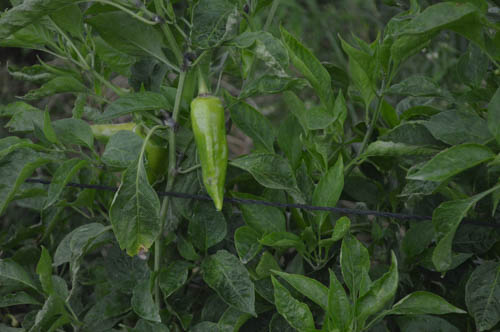ChiliPepper: (194, 95, 230, 211)
